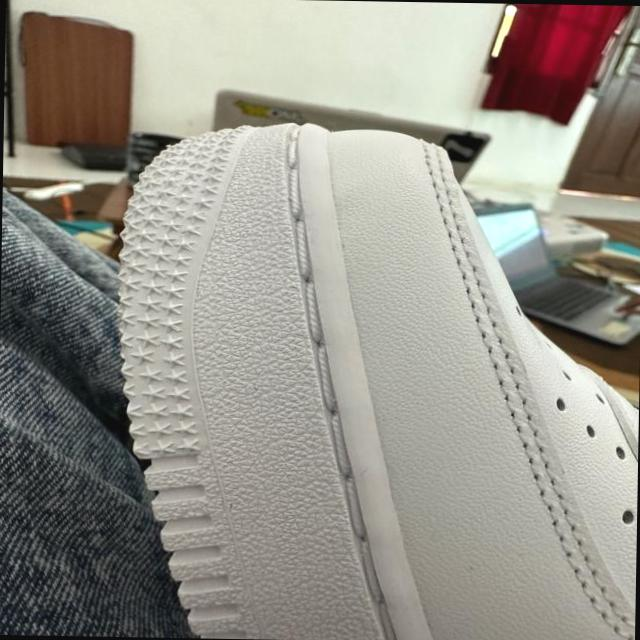nike_original_airforce: (109, 116, 640, 640)
